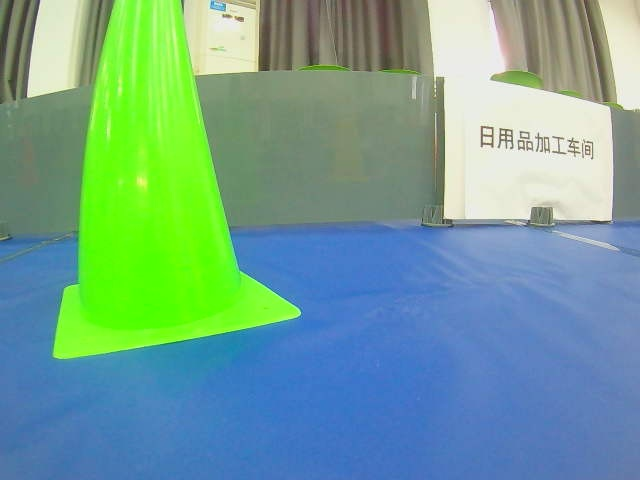target: (478, 124, 595, 161)
